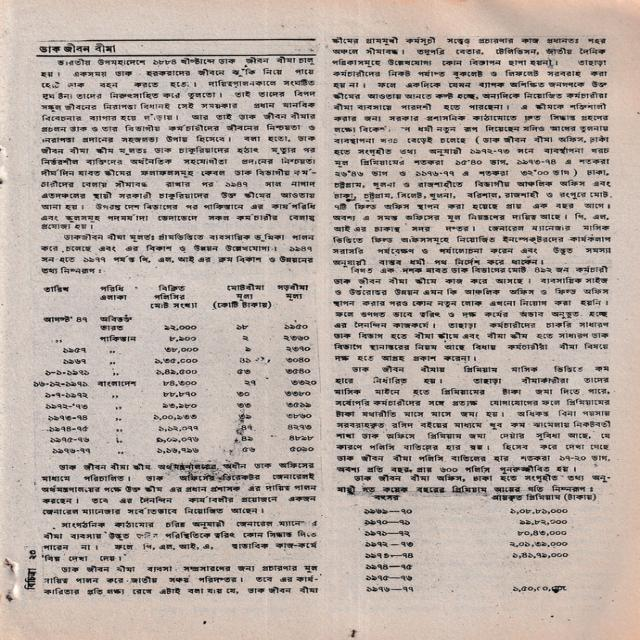page number: (27, 548, 38, 562)
paragraph: (328, 34, 618, 268), (37, 55, 318, 230), (330, 364, 614, 474), (324, 265, 613, 362), (39, 461, 319, 516), (38, 231, 318, 275), (43, 519, 321, 562), (42, 564, 323, 598), (333, 472, 621, 495)
table: (28, 279, 322, 457), (346, 492, 605, 600)
text: (210, 282, 273, 311), (150, 282, 200, 311), (490, 493, 600, 503), (277, 281, 310, 302), (509, 583, 571, 594), (98, 315, 136, 331), (508, 507, 570, 516), (509, 540, 570, 549), (99, 283, 129, 301), (509, 551, 569, 560), (31, 380, 91, 388), (363, 574, 414, 583), (363, 552, 414, 561), (20, 567, 38, 591), (43, 368, 91, 377), (362, 585, 415, 593), (515, 530, 568, 538), (43, 402, 90, 411), (42, 315, 89, 324), (93, 380, 139, 389), (363, 540, 414, 548), (154, 367, 199, 376), (518, 519, 568, 527), (160, 378, 199, 388), (363, 518, 411, 526), (151, 413, 198, 421), (153, 435, 200, 443), (43, 391, 89, 399), (153, 357, 199, 365), (45, 425, 90, 433), (156, 447, 201, 455), (46, 414, 90, 422), (99, 334, 138, 343), (49, 447, 92, 455), (365, 563, 414, 570), (363, 508, 412, 515), (49, 436, 91, 444), (364, 530, 411, 537), (161, 346, 201, 354), (42, 283, 71, 294), (161, 391, 198, 399), (157, 425, 199, 432), (163, 323, 198, 331), (283, 345, 313, 354), (280, 390, 312, 398), (161, 402, 197, 409), (371, 494, 402, 502), (58, 358, 88, 366), (283, 401, 313, 409), (288, 379, 318, 387), (288, 444, 314, 453), (285, 412, 314, 420), (60, 347, 88, 355), (286, 423, 314, 431), (283, 356, 311, 364), (282, 334, 309, 342), (167, 335, 197, 342), (283, 323, 309, 331), (284, 368, 313, 375), (288, 435, 314, 442), (235, 424, 256, 431), (237, 412, 253, 421), (234, 402, 254, 409), (239, 435, 255, 443), (236, 367, 252, 375), (240, 446, 257, 453), (235, 323, 249, 331), (236, 390, 251, 397), (242, 380, 256, 387), (238, 357, 251, 364), (242, 346, 252, 353), (240, 334, 250, 341)
title: (36, 41, 118, 54)
